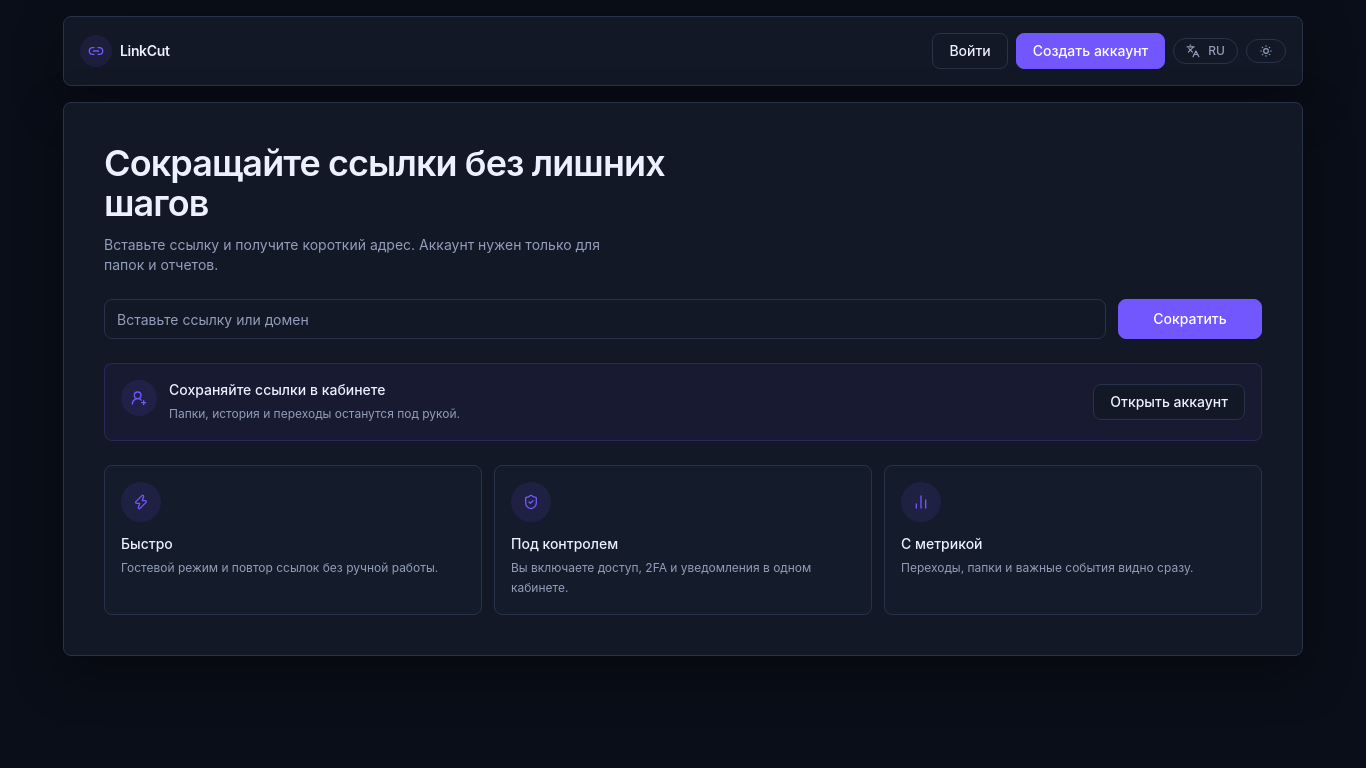
Test case: public shortener › creates a guest short link and renders the result
Type "example.com" into the field named "URL input" at (605, 319), box [104, 299, 1106, 339]
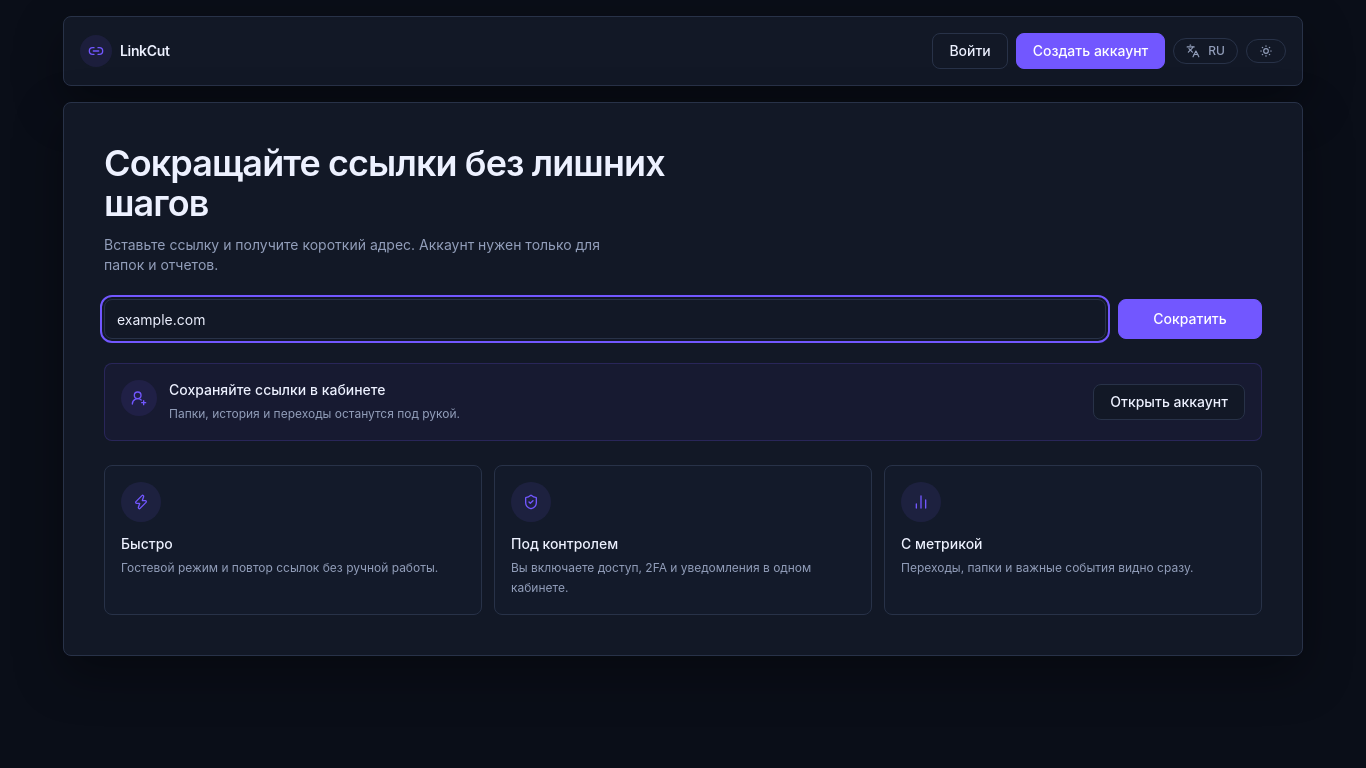
Click the button "Сократить" at (1190, 319), box [1118, 299, 1262, 339]
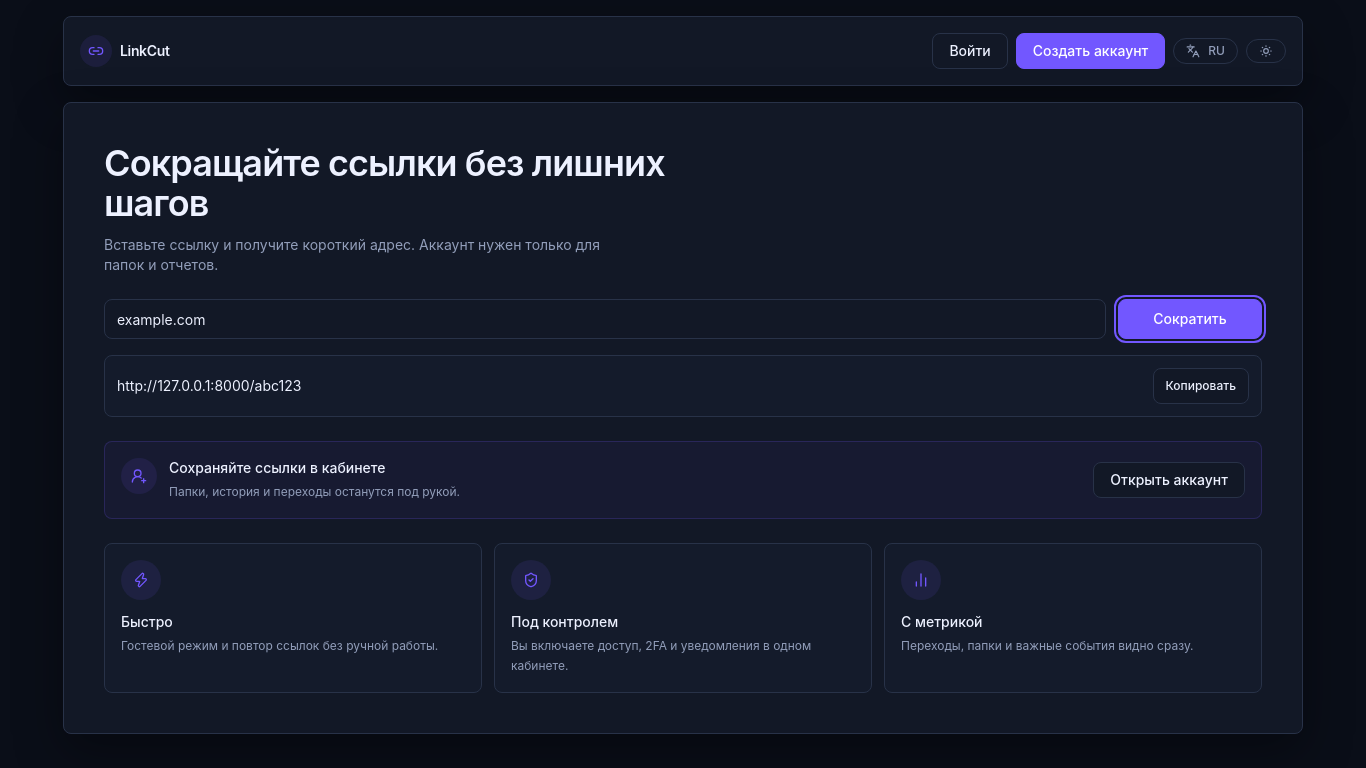
Check: the text "http://127.0.0.1:8000/abc123" is shown, box [117, 376, 302, 396]
